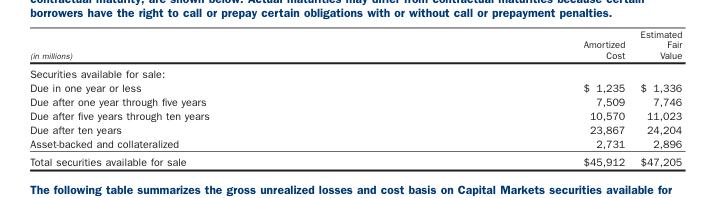table: (29, 28, 681, 166)
table column: (29, 28, 395, 166), (395, 28, 631, 166), (631, 28, 681, 166)
table column header: (29, 28, 681, 63)
table projected row header: (29, 63, 681, 80)
table row: (29, 28, 681, 63), (29, 63, 681, 80), (29, 135, 681, 151), (29, 151, 681, 166), (29, 80, 681, 94), (29, 107, 681, 121), (29, 121, 681, 135), (29, 94, 681, 107)
